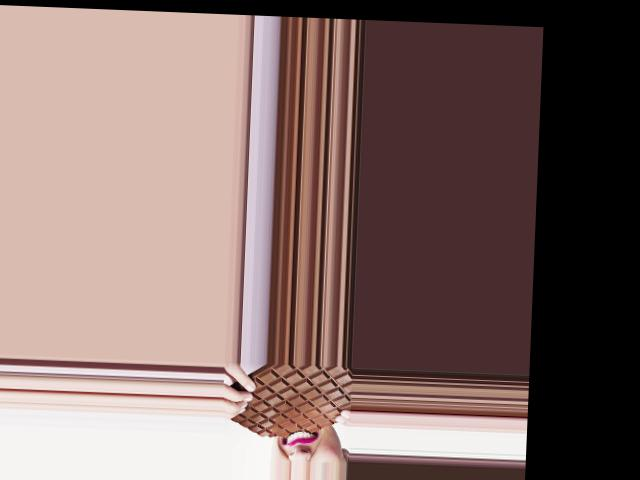chocolate: (220, 361, 351, 443)
